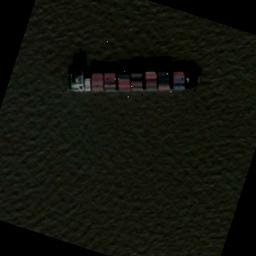boat: (63, 32, 203, 128)
